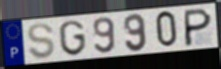0: (154, 9, 180, 50)
9: (122, 12, 148, 53), (92, 16, 116, 55)
G: (57, 19, 88, 58)
P: (183, 7, 214, 48)
S: (26, 22, 57, 61)
